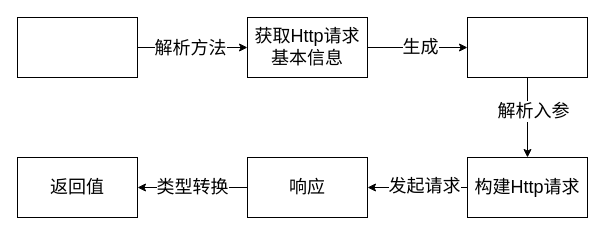
This 605x235 diagram has some shape labels left out. The shapes that lost their labels are listed below. From the top down, each one's centre as x and y in pixels, then its label:
point 77,47: 定义接口
point 527,47: 动态代理
